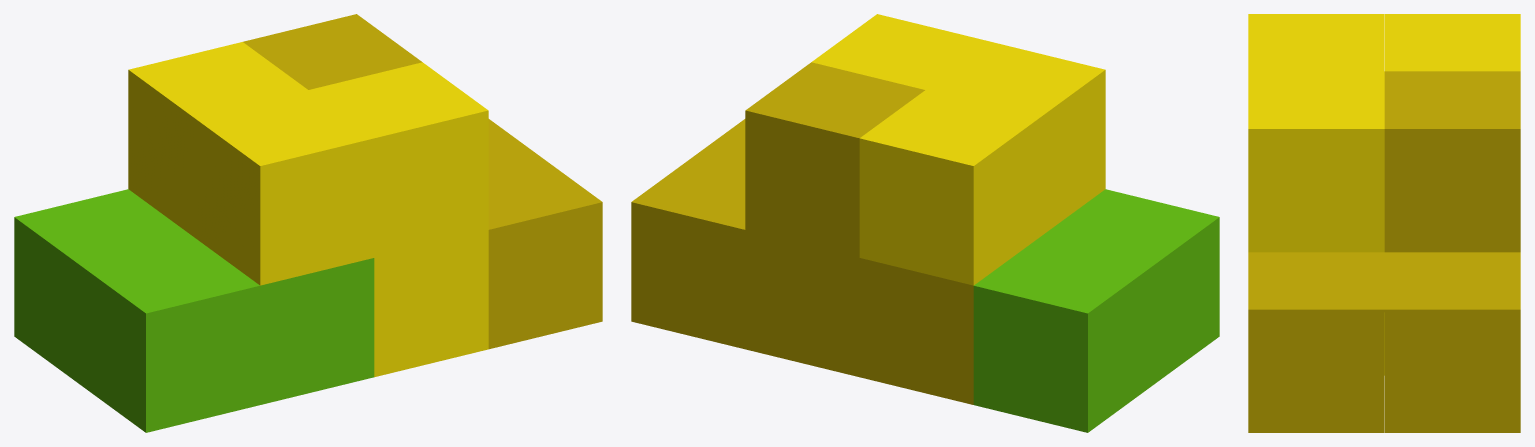
3 renders of one model, left to right at view 1: azimuth 30°, elevation 25°; view 2: azimuth 150°, elevation 25°; view 3: azimuth 270°, elevation 25°, orthographic. The views are drawn at different scales.
Parts seen in each view (by area): view 1: mergedBlocks(Clone); view 2: mergedBlocks(Clone); view 3: mergedBlocks(Clone).
Boxes of the visible parts, x1,y1,x2,y2 form: mergedBlocks(Clone): (14, 14, 602, 432); mergedBlocks(Clone): (631, 14, 1219, 432); mergedBlocks(Clone): (1248, 14, 1520, 432).
Bounding box in the file's own units: 4 × 2 × 2.
Materials: 3 (3 with a texture image).
